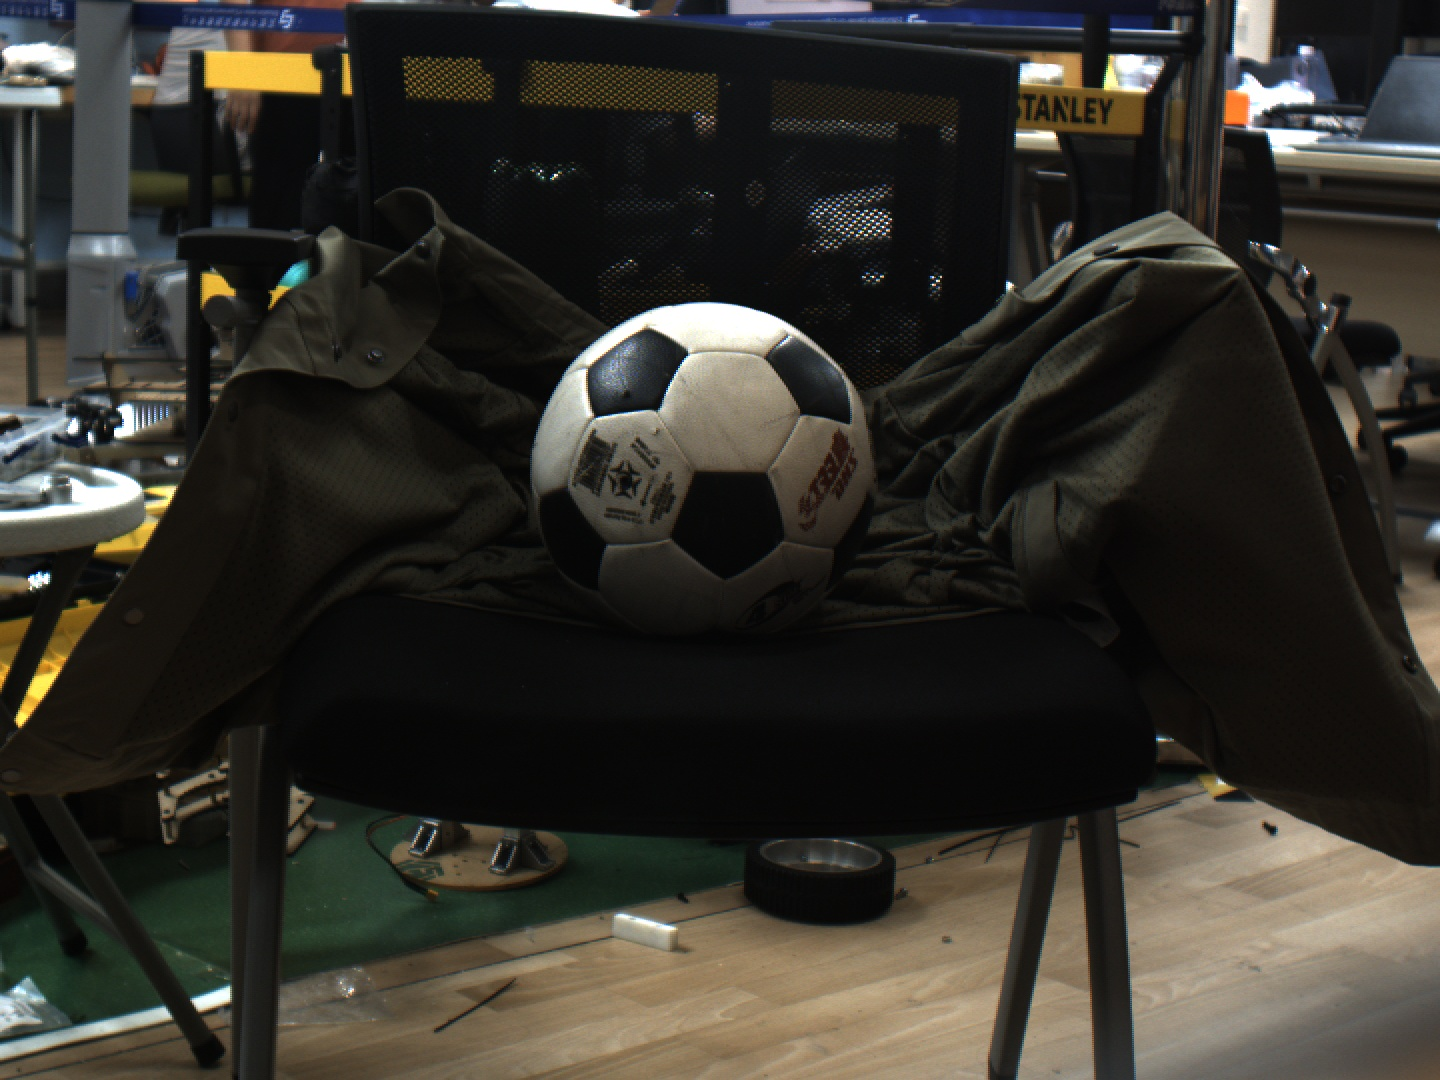ball: (495, 293, 897, 638)
